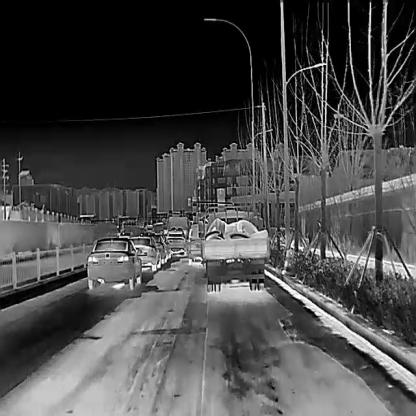car: (84, 234, 140, 289), (124, 232, 160, 272), (162, 225, 184, 257), (150, 231, 167, 264), (162, 233, 172, 260)
truck: (197, 200, 272, 292), (187, 222, 202, 262)
